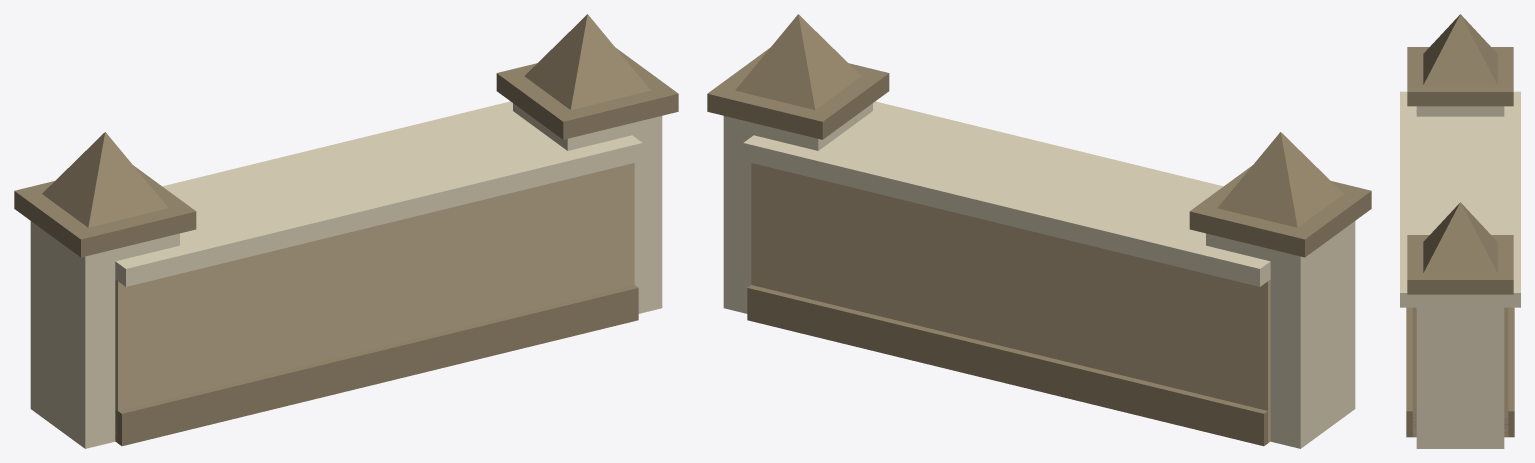
The model's file is Wall_Low.fbx.
3 views of the same model, side by side, from view 1: azimuth 30°, elevation 25°; view 2: azimuth 150°, elevation 25°; view 3: azimuth 270°, elevation 25° (orthographic). The views are drawn at different scales.
Visible parts, largest first — view 1: Wall_Low; view 2: Wall_Low; view 3: Wall_Low.
Boxes of the visible parts, x1,y1,x2,y2 form: Wall_Low: [14, 14, 678, 448]; Wall_Low: [707, 14, 1371, 448]; Wall_Low: [1400, 14, 1520, 448].
Bounding box in the file's own units: 3.47 × 1.59 × 0.76.
